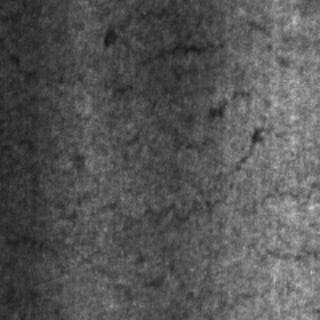crazing: (0, 194, 254, 298), (106, 21, 278, 147), (154, 86, 274, 190)
